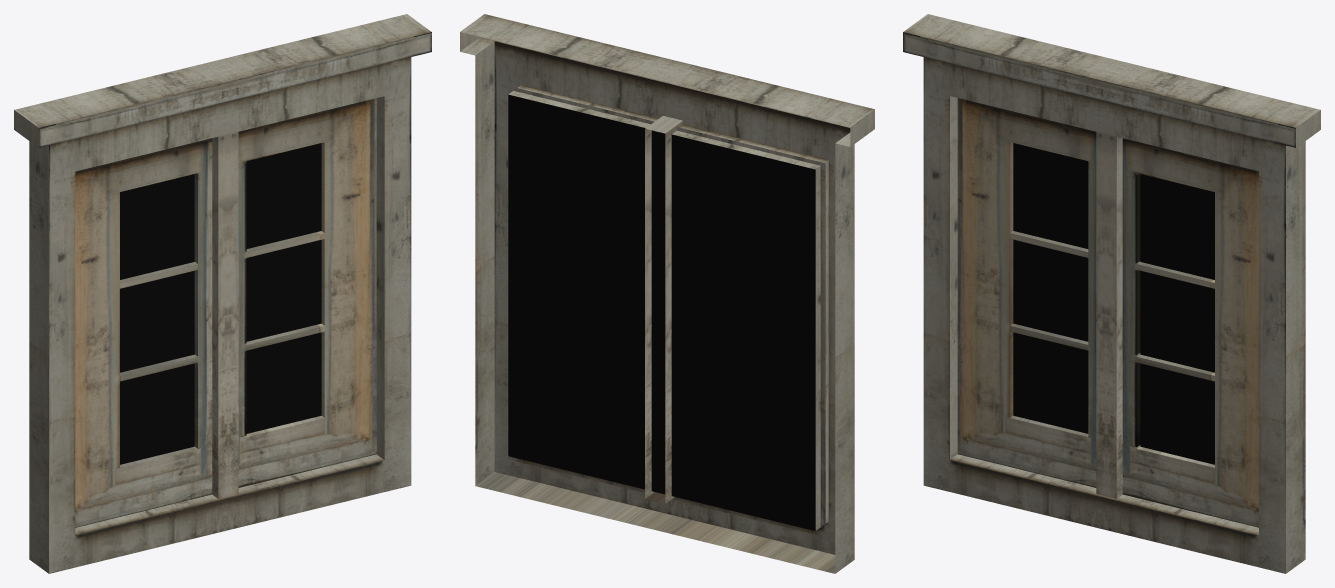
The model's file is Window.fbx.
3 views of the same model, side by side, from view 1: azimuth 30°, elevation 25°; view 2: azimuth 150°, elevation 25°; view 3: azimuth 330°, elevation 25° (orthographic).
Parts seen in each view (by area): view 1: Window; view 2: Window; view 3: Window.
Boxes of the visible parts, x1,y1,x2,y2 form: Window: (14, 14, 431, 573); Window: (460, 14, 874, 573); Window: (903, 14, 1320, 573).
Bounding box in the file's own units: 110 × 121 × 11.97.
